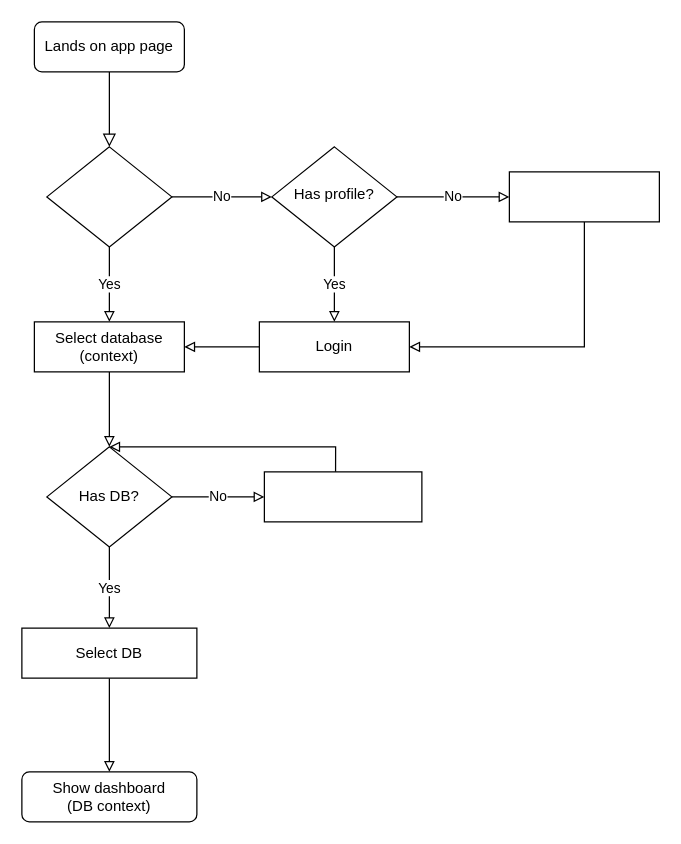
The diagram is 681 pixels wide and 844 high, and some of its shapes have lost their labels. Here are the shapes that lost their labels. From the top down, the box of each, then its label:
(46, 146, 172, 247): Is logged in?
(508, 171, 659, 222): Create profile
(263, 471, 422, 522): Create new DB
